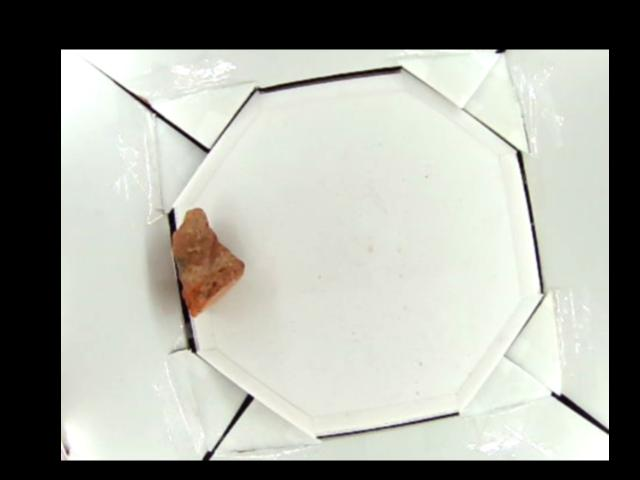Brisk: (169, 208, 242, 317)
